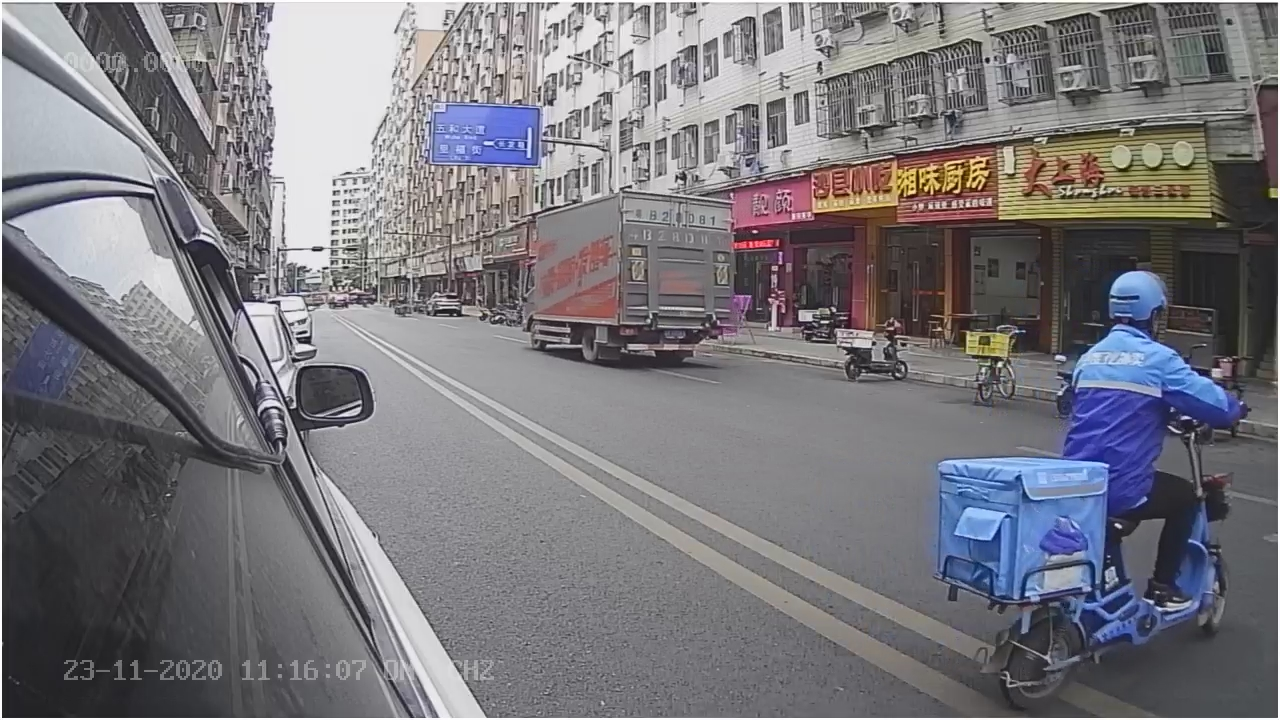person: (1059, 263, 1250, 428)
